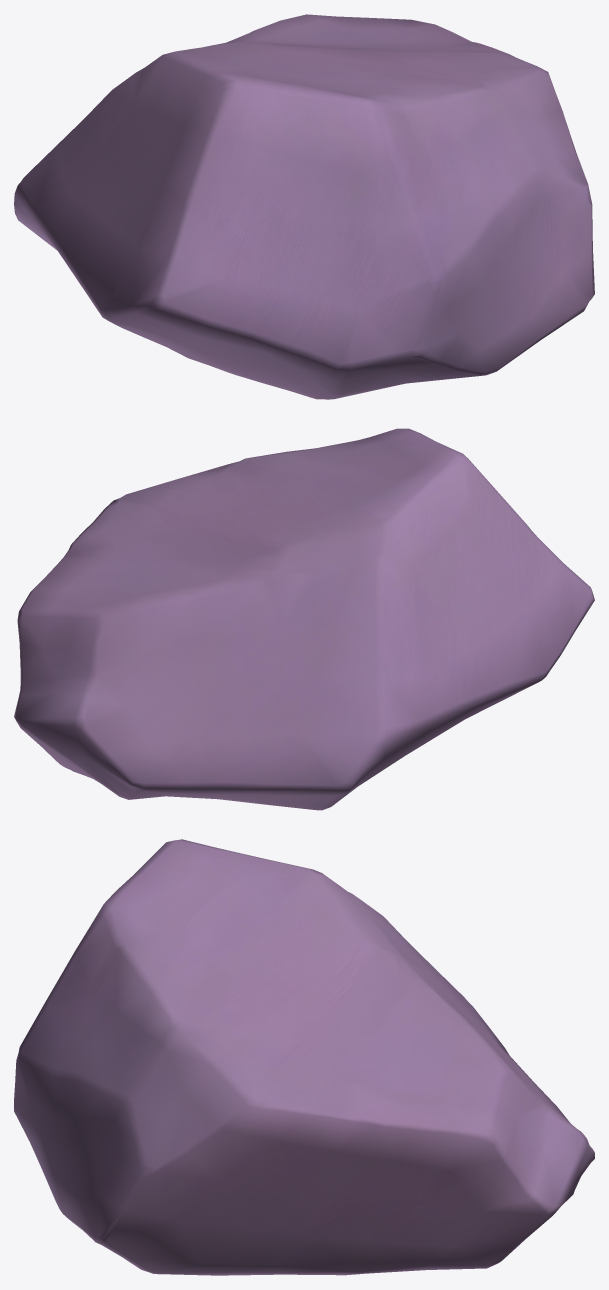
3 views of the same model, one above another, from view 1: azimuth 30°, elevation 25°; view 2: azimuth 150°, elevation 25°; view 3: azimuth 270°, elevation 25° (orthographic). The views are drawn at different scales.
Parts seen in each view (by area): view 1: tripo_node_f90f5564-847d-4a99-aa00-ca5695351346; view 2: tripo_node_f90f5564-847d-4a99-aa00-ca5695351346; view 3: tripo_node_f90f5564-847d-4a99-aa00-ca5695351346.
Boxes of the visible parts, x1=… form: tripo_node_f90f5564-847d-4a99-aa00-ca5695351346: x1=14, y1=14, x2=594, y2=399; tripo_node_f90f5564-847d-4a99-aa00-ca5695351346: x1=14, y1=428, x2=594, y2=810; tripo_node_f90f5564-847d-4a99-aa00-ca5695351346: x1=14, y1=839, x2=594, y2=1275.
Size of the model in its own units: 0.8926 by 0.5762 by 0.998.
1 material, 1 textured.
